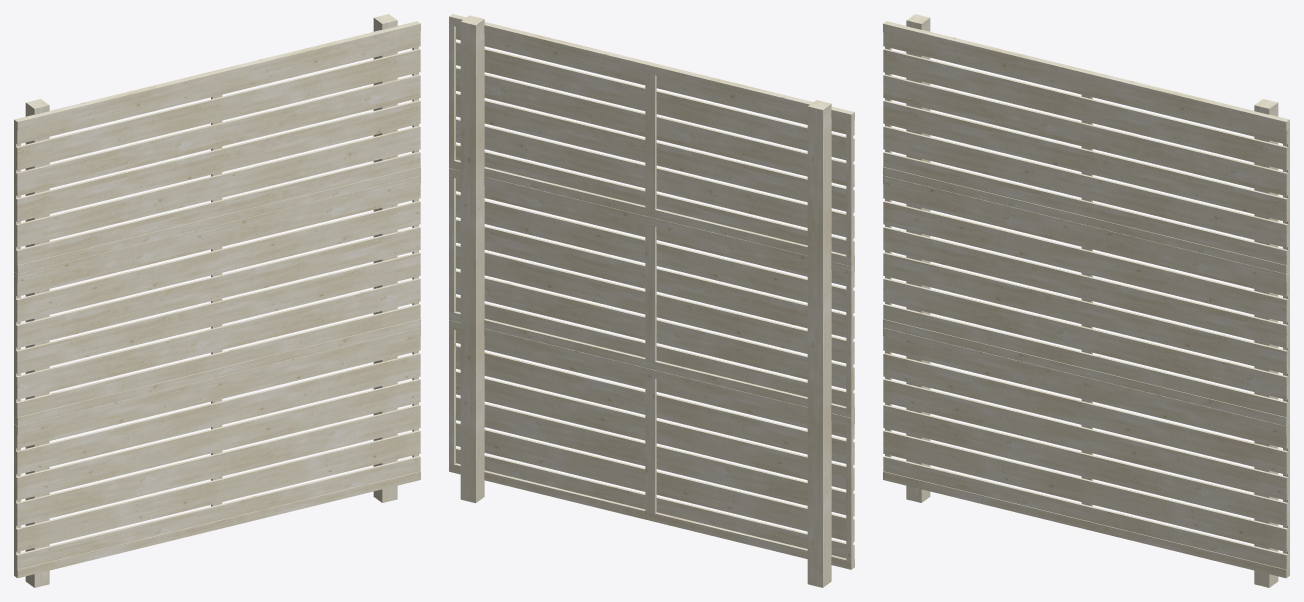
File: eafyokoita-tadan_h24_whitepine.fbx
3 renders of one model, left to right at view 1: azimuth 30°, elevation 25°; view 2: azimuth 150°, elevation 25°; view 3: azimuth 330°, elevation 25°, orthographic.
Parts seen in each view (by area): view 1: eafyokoita-tadan_h24_whitepine; view 2: eafyokoita-tadan_h24_whitepine; view 3: eafyokoita-tadan_h24_whitepine.
Boxes of the visible parts, x1,y1,x2,y2 form: eafyokoita-tadan_h24_whitepine: (14,14,420,587); eafyokoita-tadan_h24_whitepine: (449,14,854,587); eafyokoita-tadan_h24_whitepine: (883,14,1289,587).
Size of the model in its own units: 200 by 227 by 10.25.
Materials: 1 (1 with a texture image).
